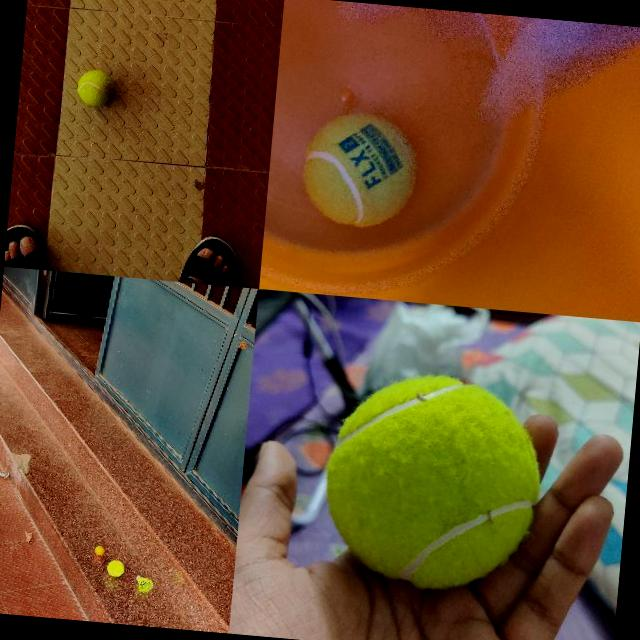Tennis Ball: (314, 362, 548, 598), (299, 108, 420, 230), (76, 68, 114, 106), (106, 558, 124, 576)
